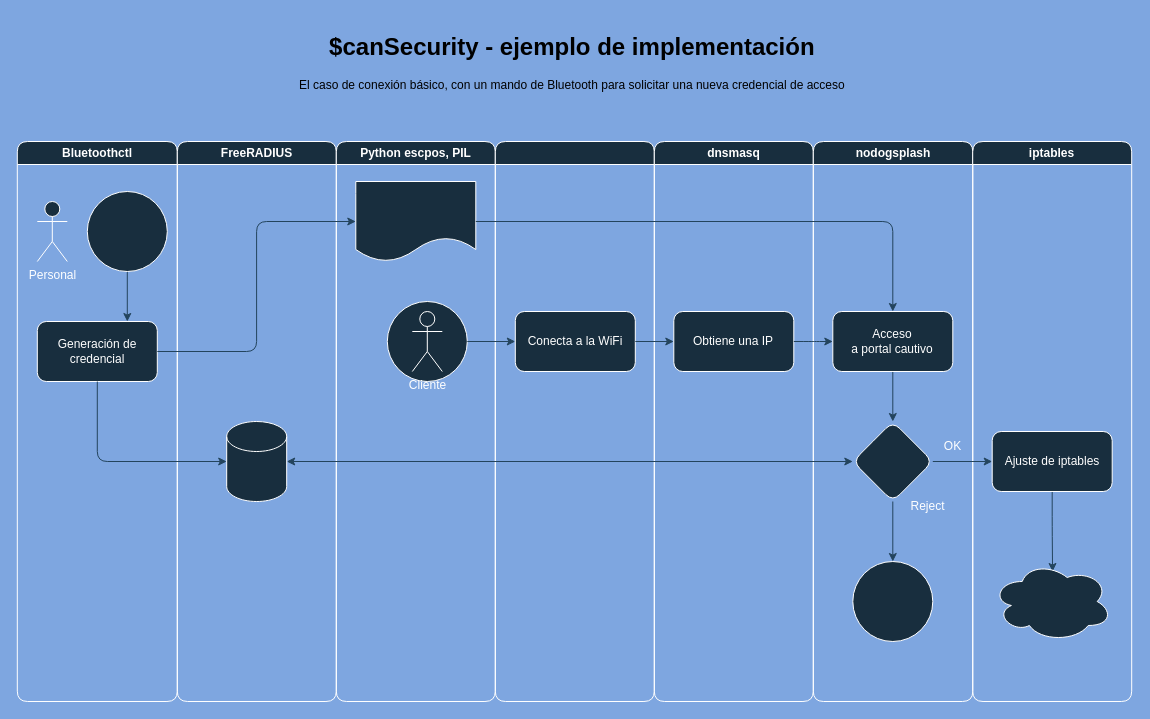
Some shapes in this 1150 by 719 pixel diagram are drawn without their labels. Here are the shapes that lost their labels. From the top down, the box of each, then its label:
(86, 190, 167, 272): Mando pulsado
(355, 180, 476, 262): Ticket QR
(494, 140, 654, 702): hostapd
(226, 420, 287, 502): BD
(852, 420, 933, 502): Verificación de acceso
(852, 560, 933, 642): Mensaje de rechazo
(991, 560, 1112, 642): Acceso a Internet
